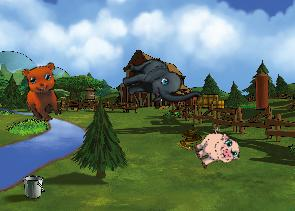bear: (14, 57, 75, 126)
elephant: (117, 45, 202, 122)
pig: (189, 123, 243, 176)
